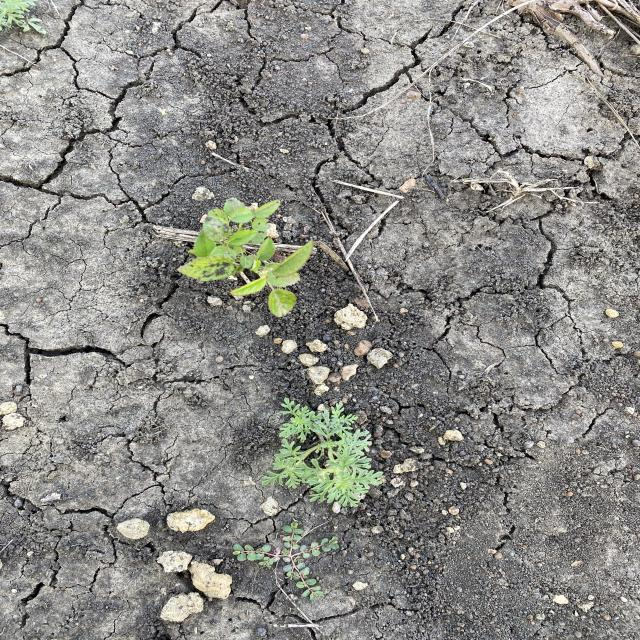PricklySida: (174, 198, 316, 317)
Ragweed: (259, 395, 388, 511), (2, 1, 48, 36)
SpottedSpurge: (232, 520, 342, 604)
